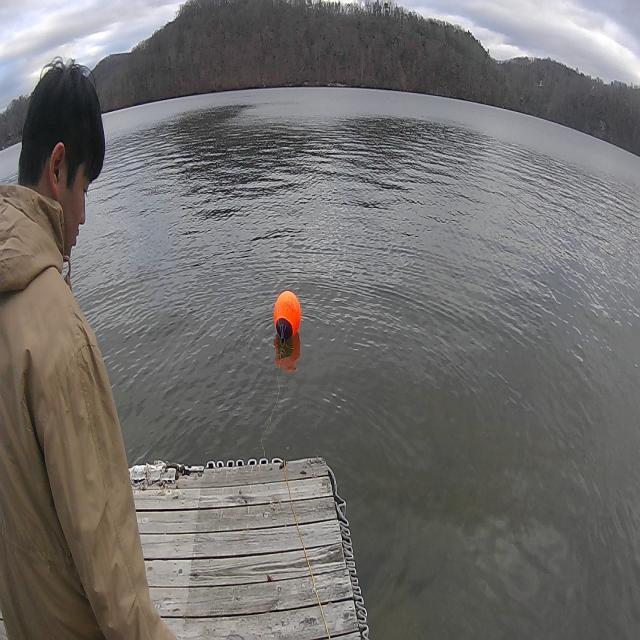Buoy: (271, 287, 303, 356)
